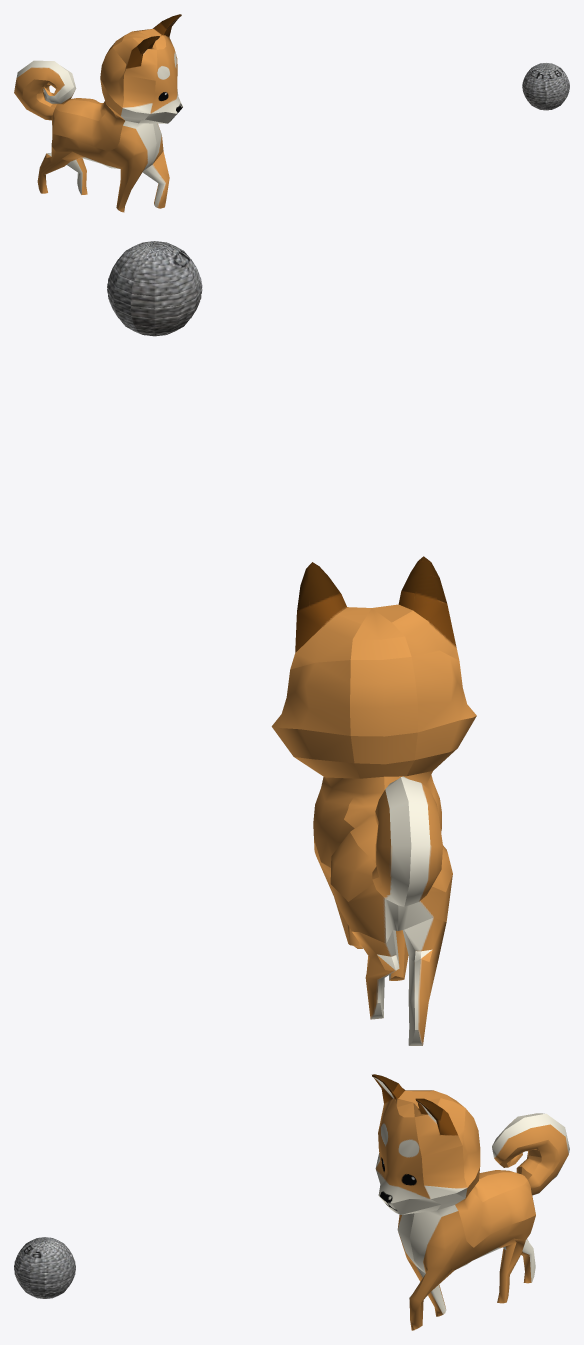
Rendered from ball_frame33.obj.
The picture shows the model from 3 angles, top to bottom: view 1: azimuth 30°, elevation 25°; view 2: azimuth 150°, elevation 25°; view 3: azimuth 270°, elevation 25°; orthographic projection. The views are drawn at different scales.
Parts seen in each view (by area): view 1: walk1:newRigging:BodzL1, pSphere1; view 2: walk1:newRigging:BodzL1, pSphere1; view 3: walk1:newRigging:BodzL1, pSphere1.
Part boxes in pixels (x1=…): walk1:newRigging:BodzL1: x1=14, y1=14, x2=182, y2=212; pSphere1: x1=522, y1=63, x2=569, y2=110; walk1:newRigging:BodzL1: x1=271, y1=556, x2=476, y2=1045; pSphere1: x1=107, y1=241, x2=202, y2=336; walk1:newRigging:BodzL1: x1=372, y1=1074, x2=569, y2=1330; pSphere1: x1=14, y1=1237, x2=75, y2=1298.
Size of the model in its own units: 15.54 by 7.99 by 16.17.
2 materials, 2 textured.
